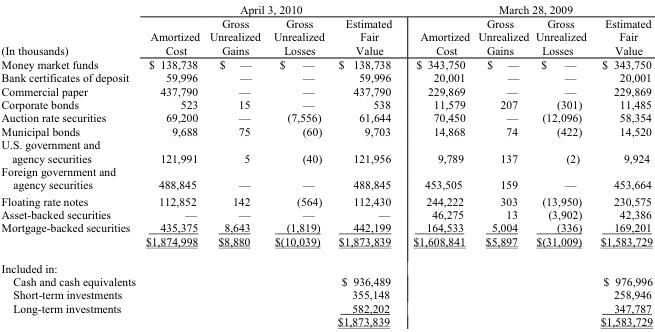table: (0, 0, 652, 328)
table column: (0, 0, 139, 328), (401, 0, 473, 328), (330, 0, 401, 328), (139, 0, 203, 328), (266, 0, 330, 328), (203, 0, 266, 328), (531, 0, 592, 328), (592, 0, 652, 328), (473, 0, 531, 328)
table column header: (0, 0, 652, 56)
table projected row header: (0, 254, 652, 274)
table row: (0, 15, 652, 56), (0, 164, 652, 192), (0, 137, 652, 164), (0, 233, 652, 254), (0, 254, 652, 274), (0, 0, 652, 15), (0, 192, 652, 207), (0, 56, 652, 70), (0, 70, 652, 84), (0, 110, 652, 124), (0, 300, 652, 314), (0, 314, 652, 328), (0, 84, 652, 97), (0, 97, 652, 110), (0, 124, 652, 137), (0, 207, 652, 220), (0, 220, 652, 233), (0, 274, 652, 287), (0, 287, 652, 300)
table spanning cell: (0, 0, 139, 56), (139, 0, 401, 15), (401, 0, 652, 15)
